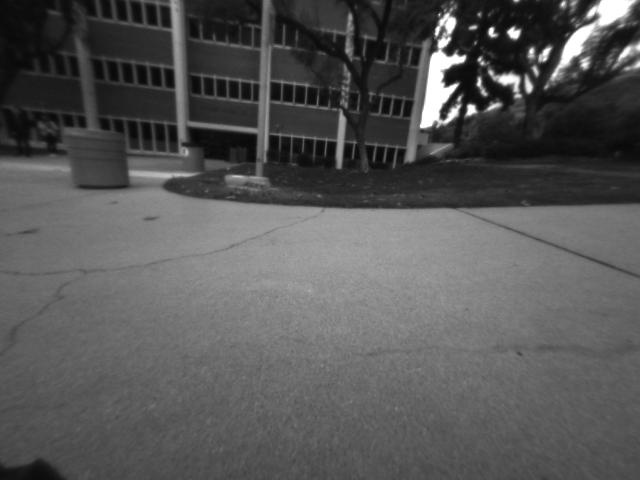trashcan: (60, 121, 134, 192), (178, 137, 207, 174)
